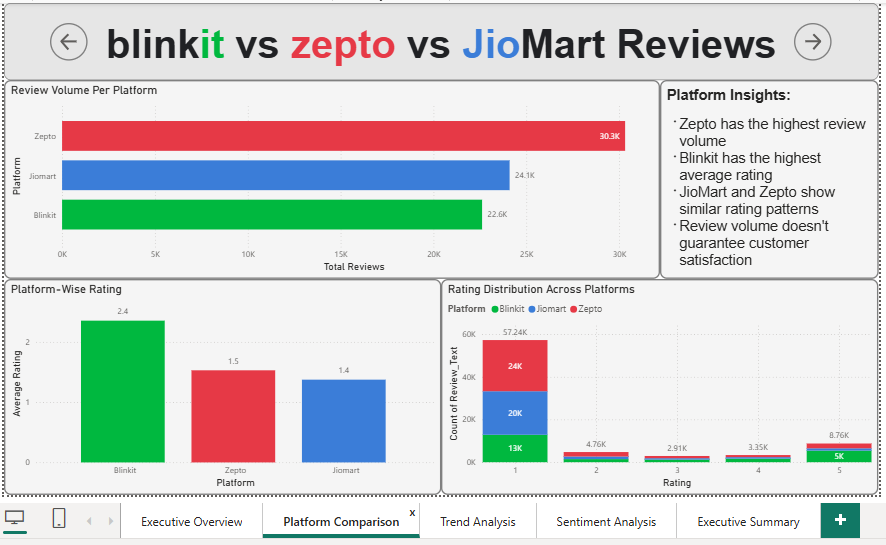

What the dashboard file says about the page in this screenshot:
{"tool":"powerbi","page":{"name":"Platform Comparison","canvas":[1280,720],"ordinal":1},"visuals":[{"type":"textbox","box":[0,0,1280,112.7],"z":0},{"type":"clusteredBarChart","title":"Review Volume Per Platform","fields":{"Category":["Platform.Platform"],"Y":["Table of Measures.Total Reviews"]},"box":[0,112.7,960,291.2],"z":1000},{"type":"clusteredColumnChart","title":"Platform-Wise Rating","fields":{"Category":["Platform.Platform"],"Y":["Table of Measures.Average Rating"]},"box":[0,404,640,316.4],"z":2000},{"type":"columnChart","title":"Rating  Distribution Across Platforms","fields":{"Category":["Reviews.Rating"],"Series":["Platform.Platform"],"Y":["CountNonNull(Reviews.Review_Text)"]},"box":[640,404,640,316.4],"z":3000},{"type":"actionButton","box":[1156.6,28.6,55.4,55],"z":4000},{"type":"actionButton","box":[67.9,28.6,55.4,55.4],"z":5000},{"type":"textbox","box":[960,113,320,291],"z":6000}]}

Visuals, with their boxes in screenshot pixels (x1, y1, x2, y2):
textbox: [x1=0, y1=0, x2=874, y2=77]
"Review Volume Per Platform" clusteredBarChart: [x1=0, y1=77, x2=655, y2=276]
"Platform-Wise Rating" clusteredColumnChart: [x1=0, y1=276, x2=437, y2=492]
"Rating  Distribution Across Platforms" columnChart: [x1=437, y1=276, x2=874, y2=492]
actionButton: [x1=790, y1=20, x2=827, y2=57]
actionButton: [x1=46, y1=20, x2=84, y2=57]
textbox: [x1=655, y1=77, x2=874, y2=276]
